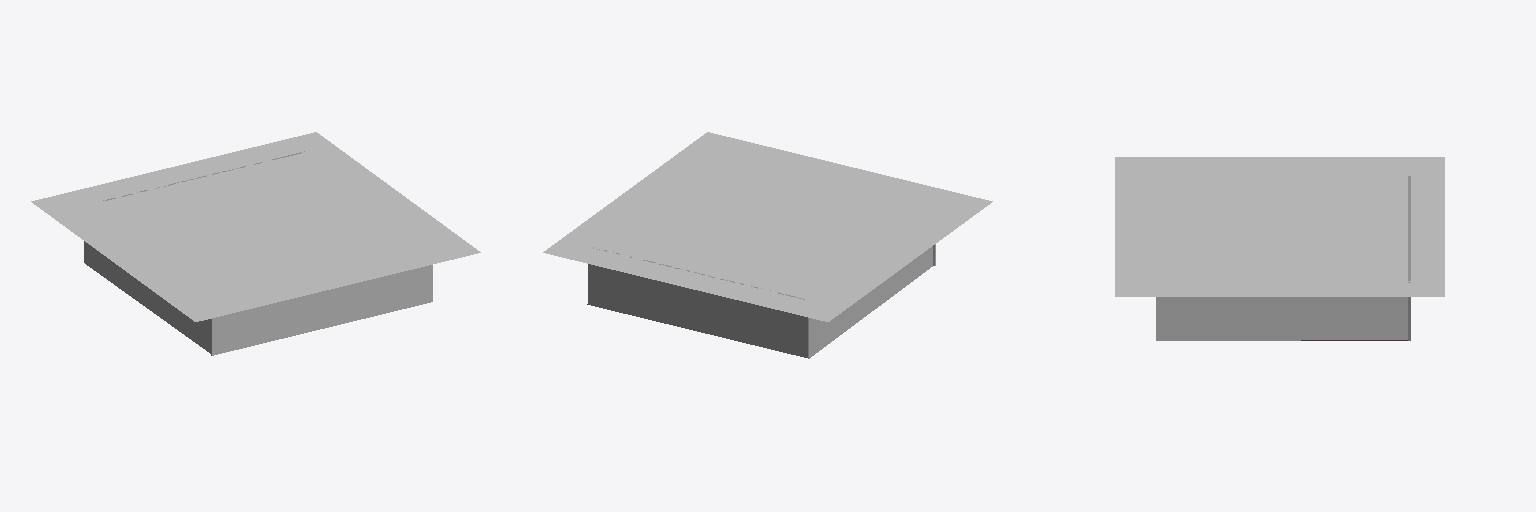
Rendered from hall1.obj.
The picture shows the model from 3 angles: view 1: azimuth 30°, elevation 25°; view 2: azimuth 150°, elevation 25°; view 3: azimuth 270°, elevation 25°; orthographic projection.
Visible parts, largest first — view 1: Plane.001_Plane.002, Cube.001, Cube.004; view 2: Plane.001_Plane.002, Cube.002, Cube.004; view 3: Plane.001_Plane.002, Cube.003.
Part boxes in pixels (x1,y1,x2,y2): Plane.001_Plane.002: (31,132,480,321); Cube.001: (211,245,430,355); Cube.004: (84,205,213,355); Plane.001_Plane.002: (543,132,992,321); Cube.002: (588,247,808,358); Cube.004: (807,216,932,358); Plane.001_Plane.002: (1115,157,1444,296); Cube.003: (1156,281,1410,340).
Bounding box in the file's own units: 259 × 50 × 259.